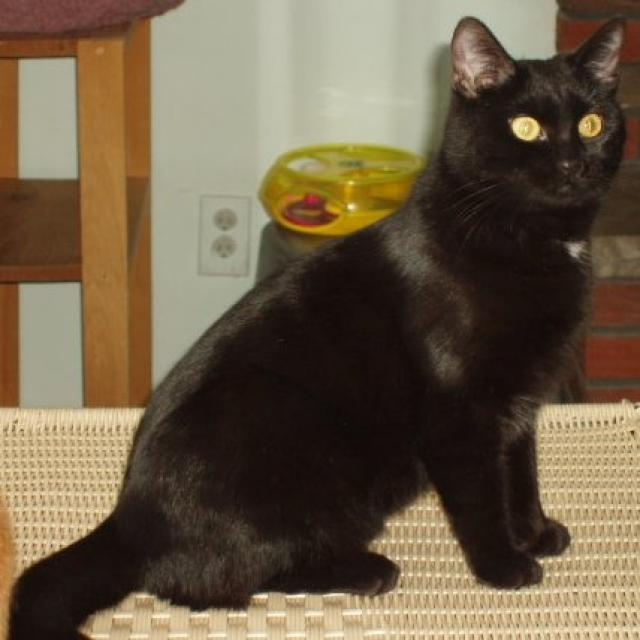Bombay: (450, 13, 624, 205)
